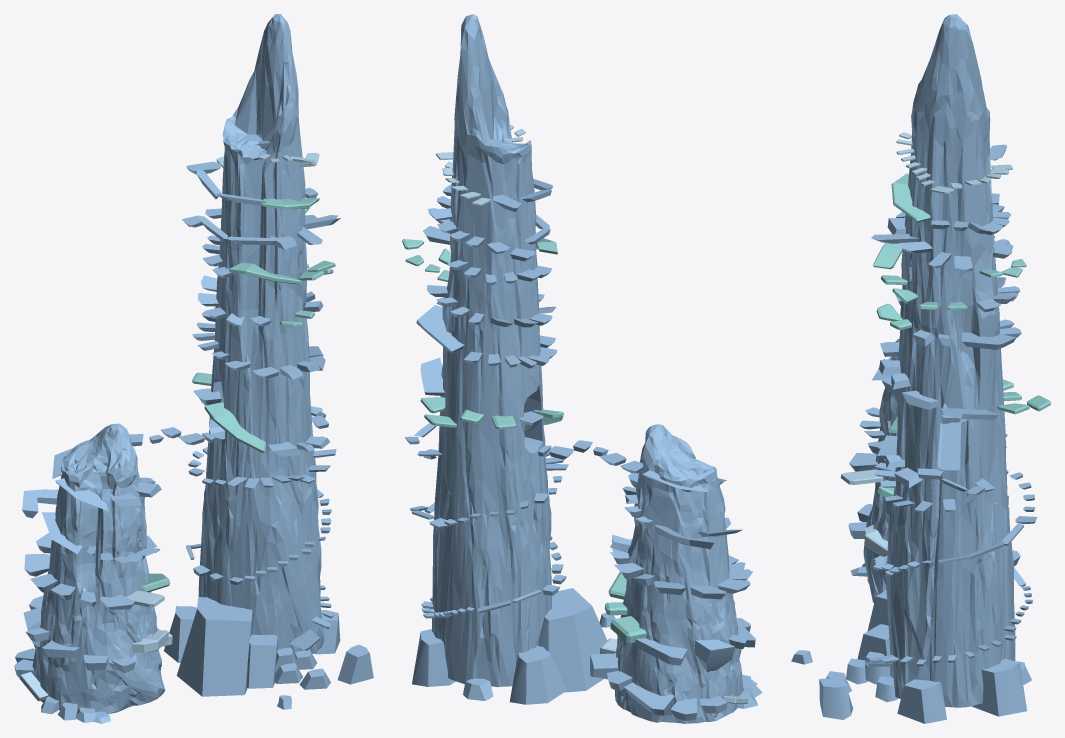
File: Extras_OnlyUpCourse_02.fbx
3 renders of one model, left to right at view 1: azimuth 30°, elevation 25°; view 2: azimuth 150°, elevation 25°; view 3: azimuth 270°, elevation 25°, orthographic. The views are drawn at different scales.
Parts seen in each view (by area): view 1: polySurface1, polySurface2, pasted__Object_IceRock119, pasted__Object_IceRock120, pasted__Object_Box21, pasted__Object_IceRock126, pasted__Object_IceRock125, pasted__Object_IceRock48, pasted__Object_IceRock121, pasted__Object_Box32; view 2: polySurface1, polySurface2, pasted__Object_IceRock119, pasted__Object_IceRock125, pasted__Object_IceRock122, pasted__Object_IceRock82, pasted__Object_IceRock28, pasted__Object_IceRock24, pasted__Object_IceRock29, pasted__Object_IceRock70, pasted__Object_Box4, pasted__Object_IceRock6 (+1 smaller); view 3: polySurface1, polySurface2, pasted__Object_IceRock122, pasted__Object_IceRock121, pasted__Object_IceRock126, pasted__Object_Box36, pasted__Object_IceRock120, pasted__Object_IceRock82, pasted__Object_Box32, pasted__Object_IceRock119, pasted__Object_IceRock70, pasted__Object_Box16 (+6 smaller).
Part boxes in pixels (x1=…): polySurface1: x1=198, y1=14, x2=324, y2=653; polySurface2: x1=32, y1=423, x2=165, y2=714; pasted__Object_IceRock119: x1=176, y1=597, x2=252, y2=696; pasted__Object_IceRock120: x1=246, y1=634, x2=278, y2=688; pasted__Object_Box21: x1=204, y1=402, x2=266, y2=452; pasted__Object_IceRock126: x1=337, y1=644, x2=373, y2=684; pasted__Object_IceRock125: x1=164, y1=606, x2=196, y2=662; pasted__Object_IceRock48: x1=22, y1=489, x2=58, y2=518; pasted__Object_IceRock121: x1=315, y1=610, x2=340, y2=654; pasted__Object_Box32: x1=228, y1=262, x2=302, y2=284; polySurface1: x1=432, y1=14, x2=551, y2=687; polySurface2: x1=615, y1=424, x2=743, y2=723; pasted__Object_IceRock119: x1=538, y1=588, x2=607, y2=692; pasted__Object_IceRock125: x1=509, y1=646, x2=566, y2=704; pasted__Object_IceRock122: x1=412, y1=629, x2=455, y2=686; pasted__Object_IceRock82: x1=416, y1=305, x2=464, y2=353; pasted__Object_IceRock28: x1=694, y1=639, x2=735, y2=672; pasted__Object_IceRock24: x1=624, y1=682, x2=674, y2=715; pasted__Object_IceRock29: x1=635, y1=638, x2=687, y2=665; pasted__Object_IceRock70: x1=420, y1=357, x2=445, y2=395; pasted__Object_Box4: x1=610, y1=616, x2=646, y2=643; pasted__Object_IceRock6: x1=590, y1=653, x2=618, y2=679; polySurface1: x1=886, y1=14, x2=1015, y2=707; polySurface2: x1=863, y1=338, x2=967, y2=602; pasted__Object_IceRock122: x1=972, y1=658, x2=1026, y2=716; pasted__Object_IceRock121: x1=897, y1=679, x2=946, y2=723; pasted__Object_IceRock126: x1=819, y1=677, x2=853, y2=719; pasted__Object_Box36: x1=891, y1=173, x2=930, y2=222; pasted__Object_IceRock120: x1=857, y1=624, x2=891, y2=677; pasted__Object_IceRock82: x1=962, y1=332, x2=1016, y2=349; pasted__Object_Box32: x1=873, y1=243, x2=902, y2=269; pasted__Object_IceRock119: x1=867, y1=590, x2=888, y2=631; pasted__Object_IceRock70: x1=941, y1=408, x2=998, y2=419; pasted__Object_Box16: x1=864, y1=524, x2=887, y2=556.
Bounding box in the file's own units: 3279 × 6329 × 2165.
